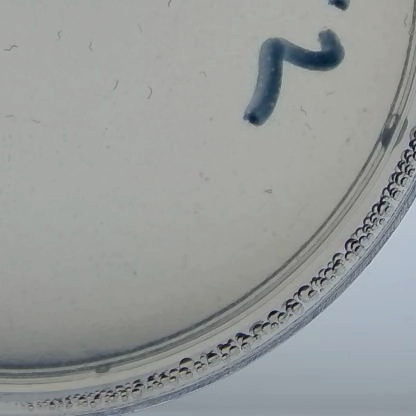worm: (19, 110, 48, 131), (391, 10, 414, 35), (134, 84, 158, 103), (315, 87, 339, 105), (2, 37, 23, 57), (294, 103, 311, 124), (155, 0, 186, 11), (0, 151, 17, 171), (105, 79, 123, 97), (194, 67, 212, 83), (55, 24, 68, 46), (0, 111, 16, 127), (131, 20, 146, 36), (88, 36, 98, 57), (301, 120, 316, 133)
